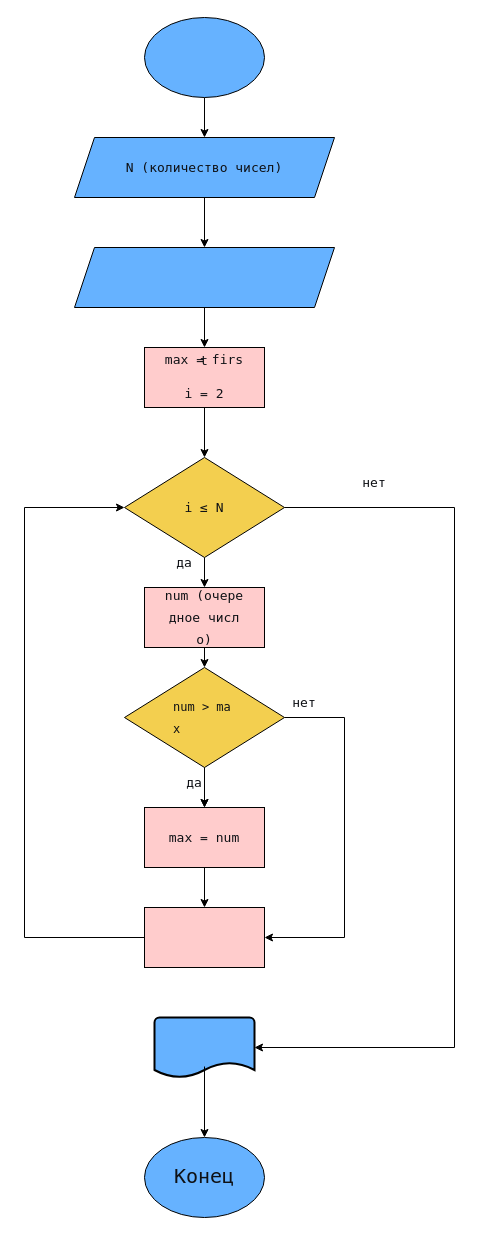
Image size: 480x1235. Some labels were removed from this diagram. The shapes that lost their labels are listed below. From the top down, each one's centre as x and y in pixels, then its label:
the point at 204,57: Начало
the point at 204,277: first (первое число)
the point at 204,937: i = i + 1
the point at 204,1047: max
